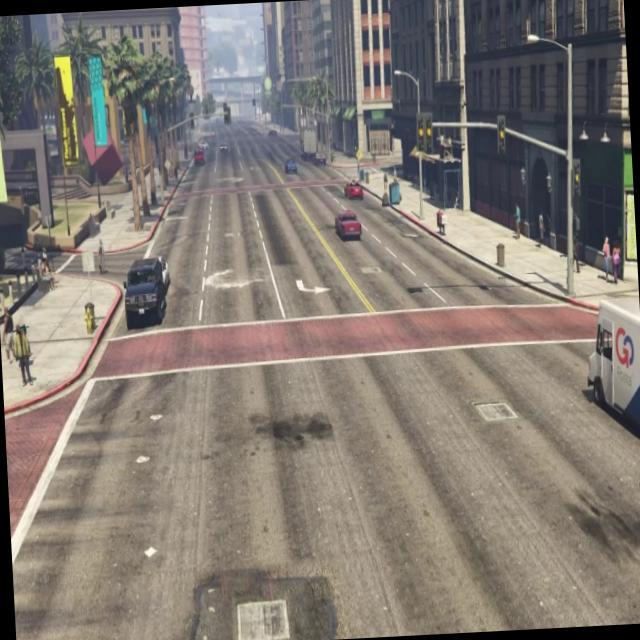Yellow-Signal: (411, 102, 439, 167), (492, 92, 514, 174), (569, 150, 591, 204)
